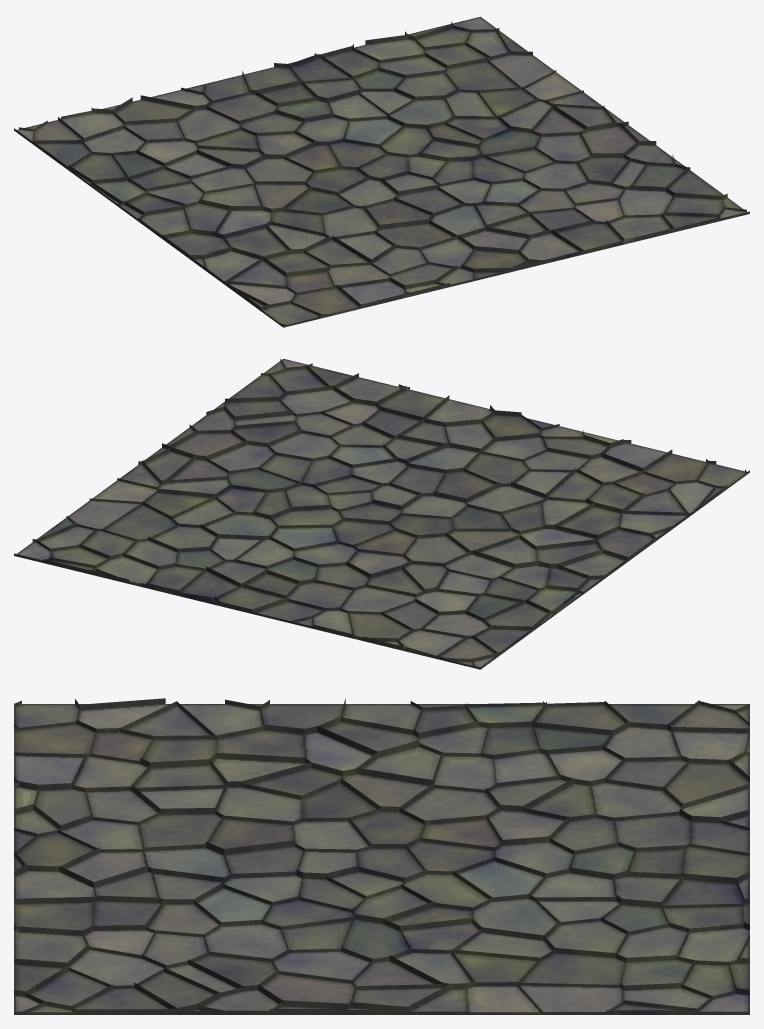
Rendered from E07_SOLOZ2_P2_BASALTO_IRREGULAR_A_ORIGINAL.glb.
3 renders of one model, top to bottom at view 1: azimuth 30°, elevation 25°; view 2: azimuth 150°, elevation 25°; view 3: azimuth 270°, elevation 25°, orthographic. The views are drawn at different scales.
Parts seen in each view (by area): view 1: substrato_pbr_juntas, pecas_minerais_relevo_3d; view 2: substrato_pbr_juntas, pecas_minerais_relevo_3d; view 3: substrato_pbr_juntas, pecas_minerais_relevo_3d.
Boxes of the visible parts, x1=… form: substrato_pbr_juntas: x1=17, y1=16, x2=746, y2=324; pecas_minerais_relevo_3d: x1=14, y1=21, x2=749, y2=327; substrato_pbr_juntas: x1=17, y1=358, x2=745, y2=667; pecas_minerais_relevo_3d: x1=14, y1=359, x2=749, y2=669; substrato_pbr_juntas: x1=14, y1=704, x2=749, y2=1014; pecas_minerais_relevo_3d: x1=14, y1=698, x2=749, y2=1014.
Bounding box in the file's own units: 2 × 0.0189 × 2.
Materials: 1 (1 with a texture image).
